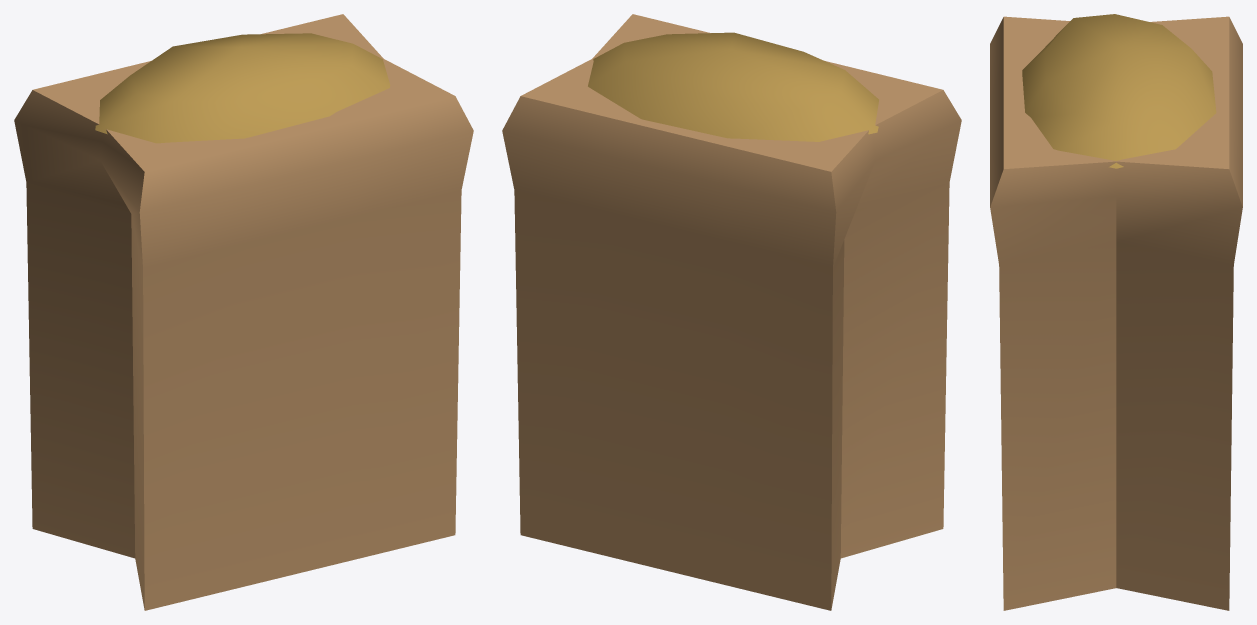
Rendered from seedBag.glb.
3 views of the same model, side by side, from view 1: azimuth 30°, elevation 25°; view 2: azimuth 150°, elevation 25°; view 3: azimuth 270°, elevation 25° (orthographic).
Visible parts, largest first — view 1: seedBag; view 2: seedBag; view 3: seedBag.
Boxes of the visible parts, x1,y1,x2,y2 form: seedBag: [14, 14, 473, 610]; seedBag: [502, 14, 961, 610]; seedBag: [990, 14, 1242, 610].
Bounding box in the file's own units: 0.086 × 0.119 × 0.056.
